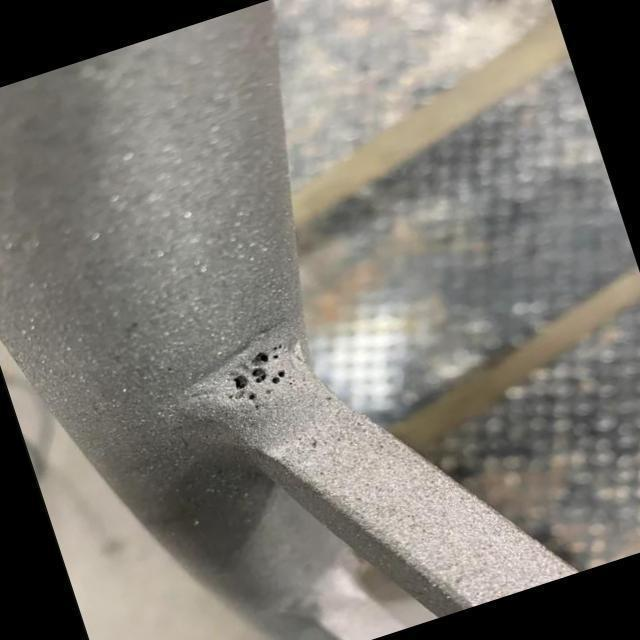defect: (252, 342, 290, 364), (230, 374, 251, 392), (250, 367, 270, 385), (269, 368, 290, 385), (247, 392, 258, 402), (288, 378, 298, 387), (252, 404, 263, 412), (265, 387, 275, 395)
